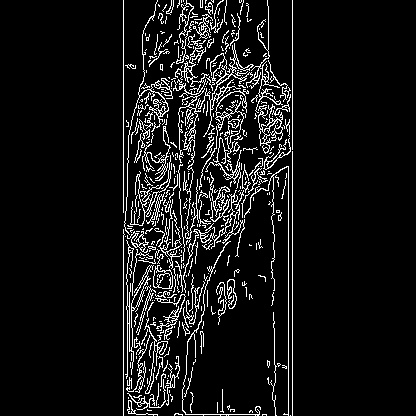buddha-standing: (65, 190, 226, 225)
